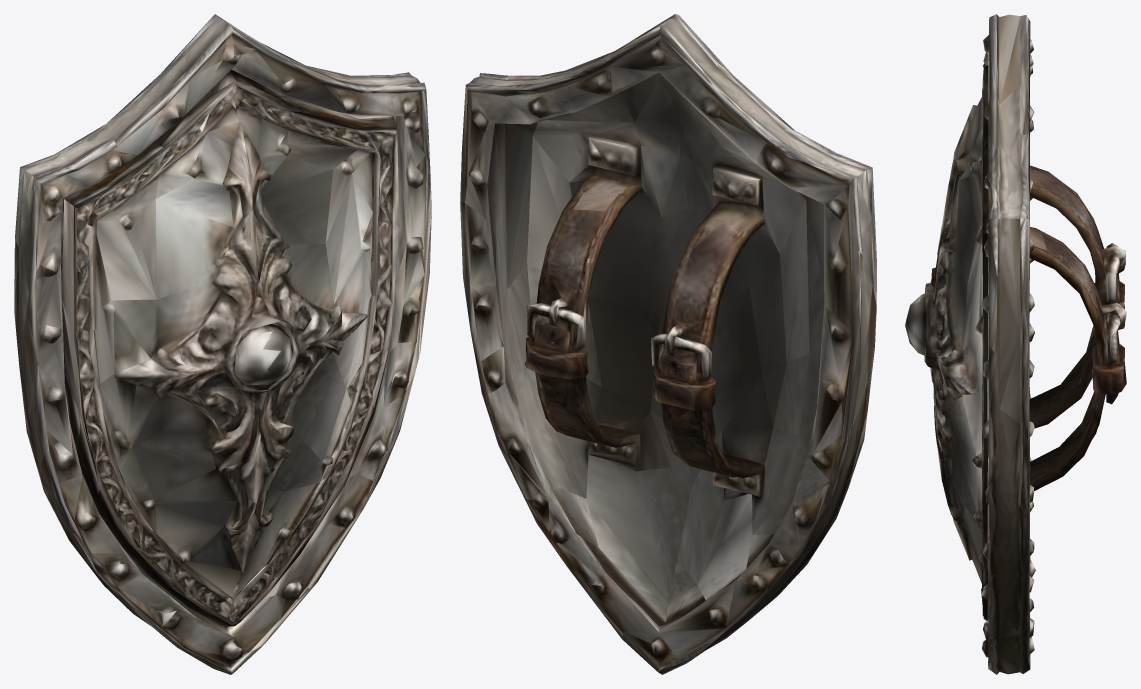
Rendered from escudo-prata-m68.glb.
3 views of the same model, side by side, from view 1: azimuth 30°, elevation 25°; view 2: azimuth 150°, elevation 25°; view 3: azimuth 270°, elevation 25° (orthographic).
Visible parts, largest first — view 1: escudo-prata; view 2: escudo-prata; view 3: escudo-prata.
Boxes of the visible parts, <box> form: escudo-prata: <box>14,14,431,674</box>; escudo-prata: <box>460,14,876,674</box>; escudo-prata: <box>905,14,1126,674</box>.
Size of the model in its own units: 0.6477 by 1 by 0.3051.
Materials: 1 (1 with a texture image).
